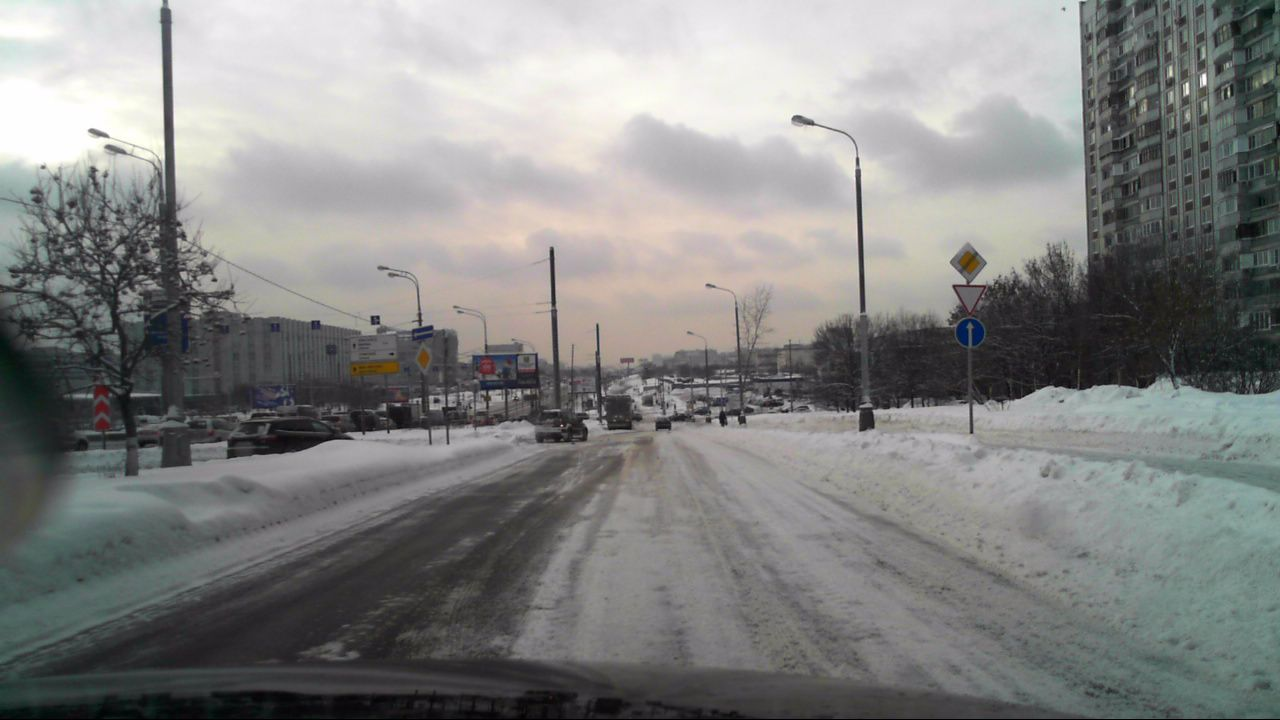main road: (948, 241, 986, 285)
